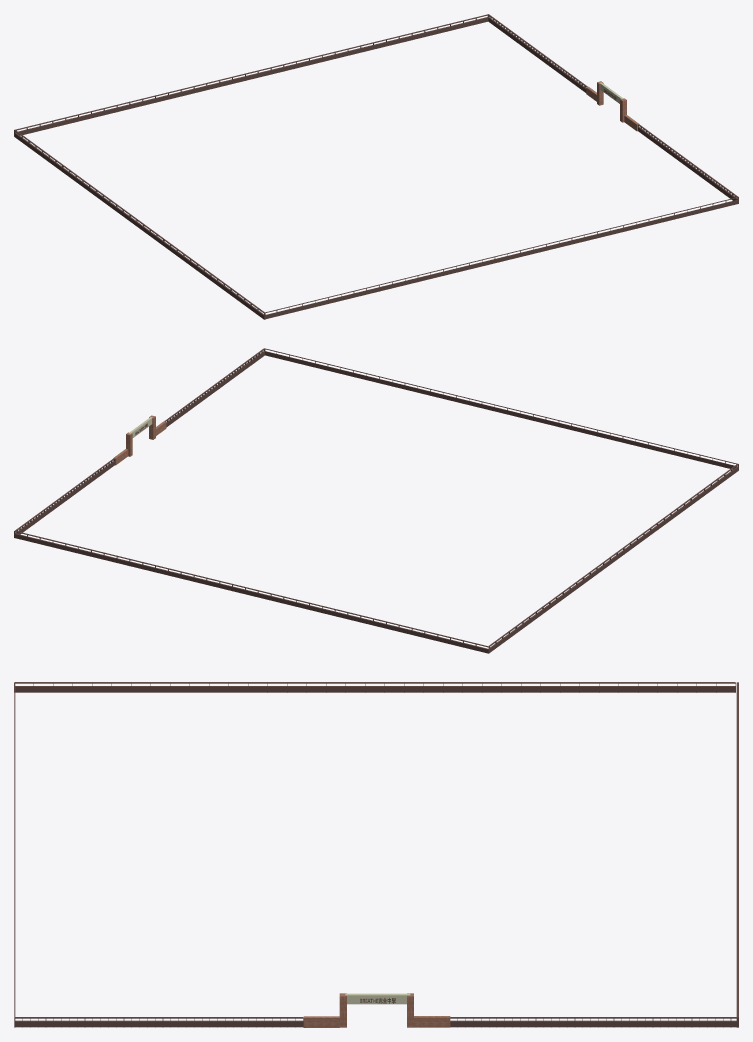
3 renders of one model, top to bottom at view 1: azimuth 30°, elevation 25°; view 2: azimuth 150°, elevation 25°; view 3: azimuth 270°, elevation 25°, orthographic. The views are drawn at different scales.
Visible parts, largest first — view 1: Railing001, Railing002, Railing003, Railing004, Railing005; view 2: Railing001, Railing002, Railing003, Railing005, Railing004; view 3: Railing003, Railing005, Railing004, Railing001, Box1162, Railing002.
Part boxes in pixels (x1=…): Railing001: x1=14, y1=14, x2=489, y2=136; Railing002: x1=264, y1=197, x2=738, y2=318; Railing003: x1=15, y1=130, x2=265, y2=319; Railing004: x1=487, y1=14, x2=587, y2=92; Railing005: x1=638, y1=124, x2=738, y2=200; Railing001: x1=14, y1=531, x2=489, y2=653; Railing002: x1=263, y1=348, x2=738, y2=469; Railing003: x1=489, y1=464, x2=738, y2=652; Railing005: x1=164, y1=348, x2=265, y2=427; Railing004: x1=14, y1=458, x2=114, y2=537; Railing003: x1=14, y1=682, x2=735, y2=692; Railing005: x1=14, y1=1017, x2=303, y2=1027; Railing004: x1=450, y1=1017, x2=738, y2=1027; Railing001: x1=736, y1=682, x2=738, y2=1027; Box1162: x1=345, y1=993, x2=410, y2=1004; Railing002: x1=14, y1=682, x2=15, y2=1027.
Size of the model in its own units: 4336 by 191 by 3955.
Materials: 3 (1 with a texture image).
